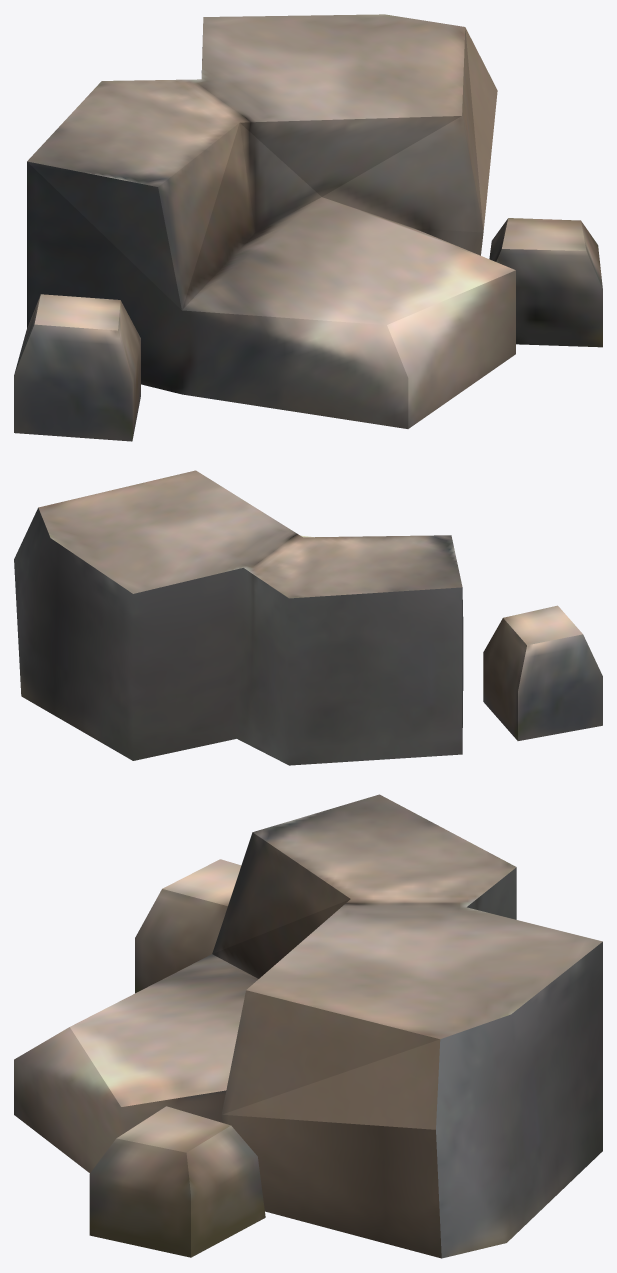
Rendered from shitou01.FBX.
3 renders of one model, top to bottom at view 1: azimuth 30°, elevation 25°; view 2: azimuth 150°, elevation 25°; view 3: azimuth 270°, elevation 25°, orthographic. The views are drawn at different scales.
Parts seen in each view (by area): view 1: Box02; view 2: Box02; view 3: Box02.
Boxes of the visible parts, x1,y1,x2,y2 form: Box02: [14, 14, 602, 441]; Box02: [14, 470, 602, 765]; Box02: [14, 794, 602, 1258].
Size of the model in its own units: 8.28 by 2.63 by 6.71.
